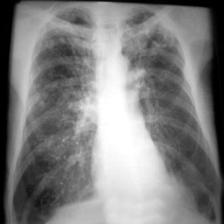tuberculosis: (5, 0, 222, 223)
